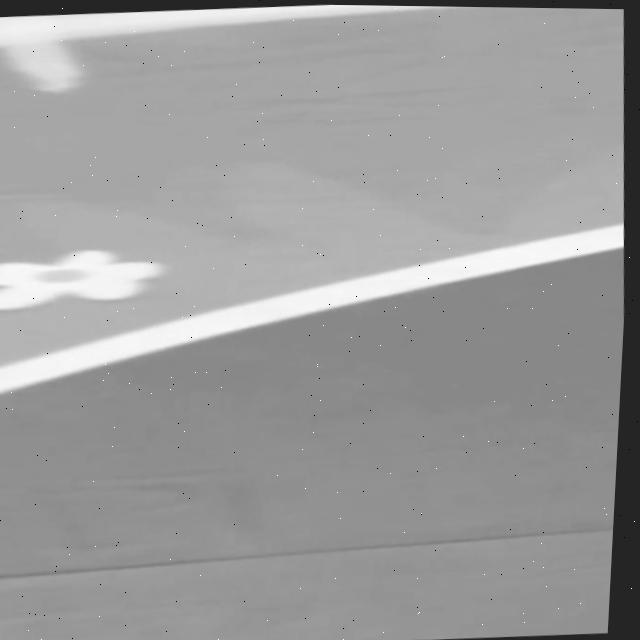right: (0, 224, 624, 393)
